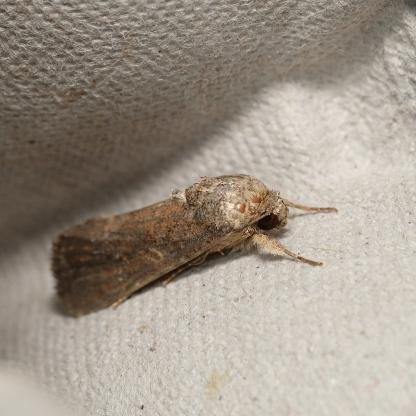Fall Armyworm Moth: (46, 171, 340, 321)
